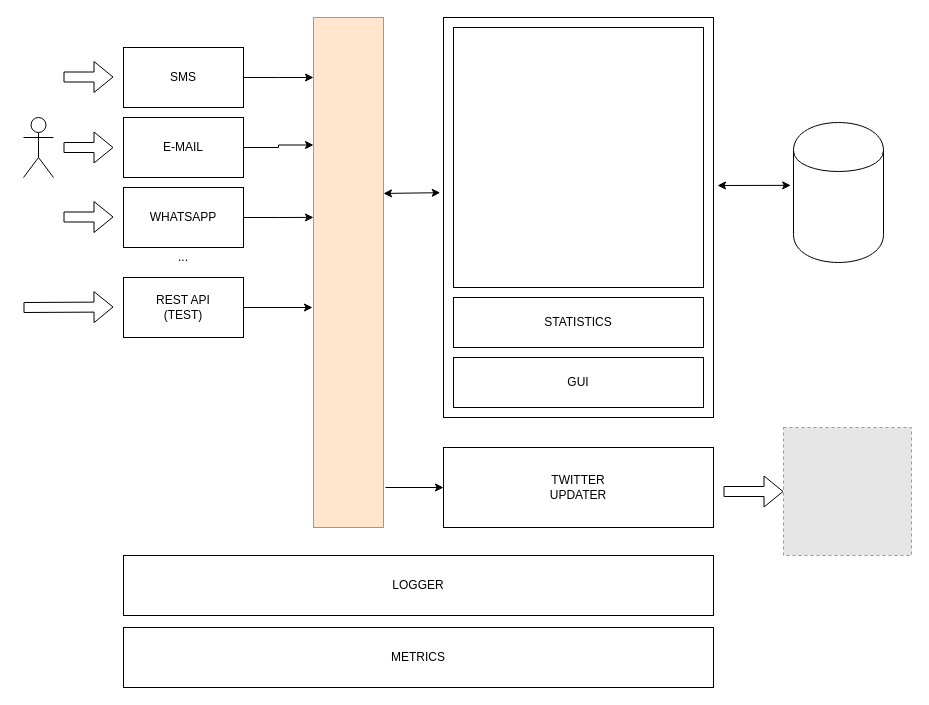
The diagram is 929 pixels wide and 705 high, and some of its shapes have lost their labels. Grey dashed boxes stand in for pictures. Here are the shapes that lost their labels. From the top down, the centre of each, then its label:
the point at 38,147: Happy traveller
the point at 578,157: CORE (Java/Spring5)
the point at 838,192: DB (MongoDB)
the point at 348,272: BROKER (RabbitMQ
